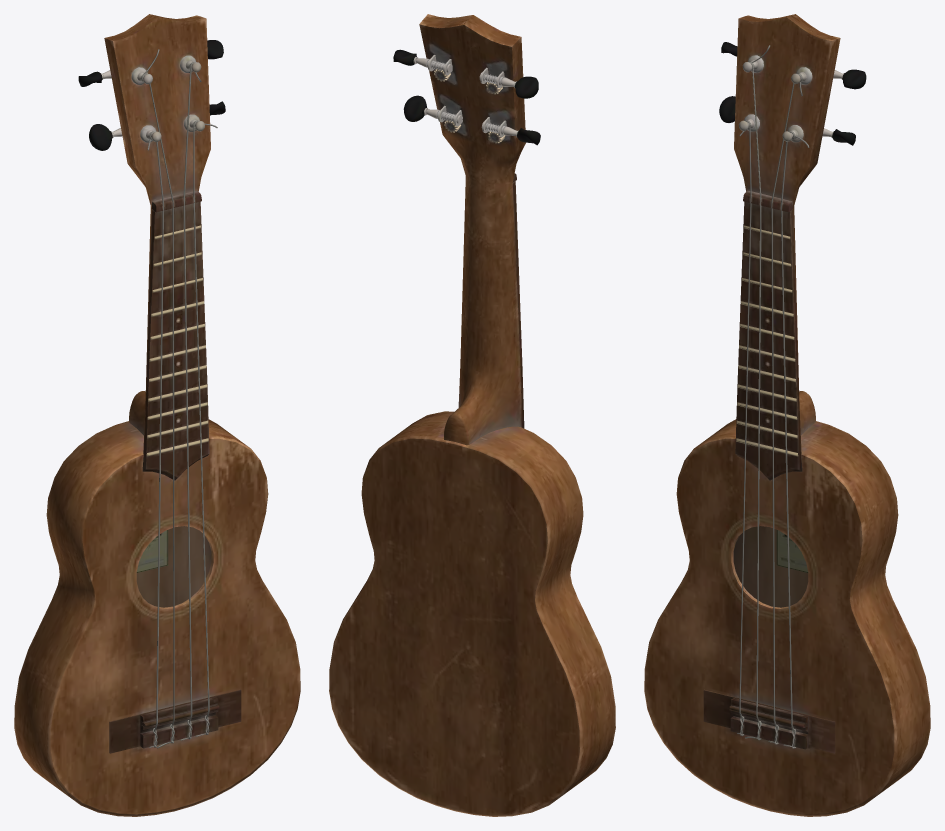
File: Ukulele_01.glb
The picture shows the model from 3 angles, left to right: view 1: azimuth 30°, elevation 25°; view 2: azimuth 150°, elevation 25°; view 3: azimuth 330°, elevation 25°; orthographic projection.
Parts seen in each view (by area): view 1: Ukulele_01; view 2: Ukulele_01; view 3: Ukulele_01.
Part boxes in pixels (bbox=[...]): Ukulele_01: bbox=[14, 14, 300, 816]; Ukulele_01: bbox=[329, 14, 615, 816]; Ukulele_01: bbox=[644, 14, 930, 816].
Size of the model in its own units: 0.1779 by 0.527 by 0.0508.
Materials: 1 (1 with a texture image).
